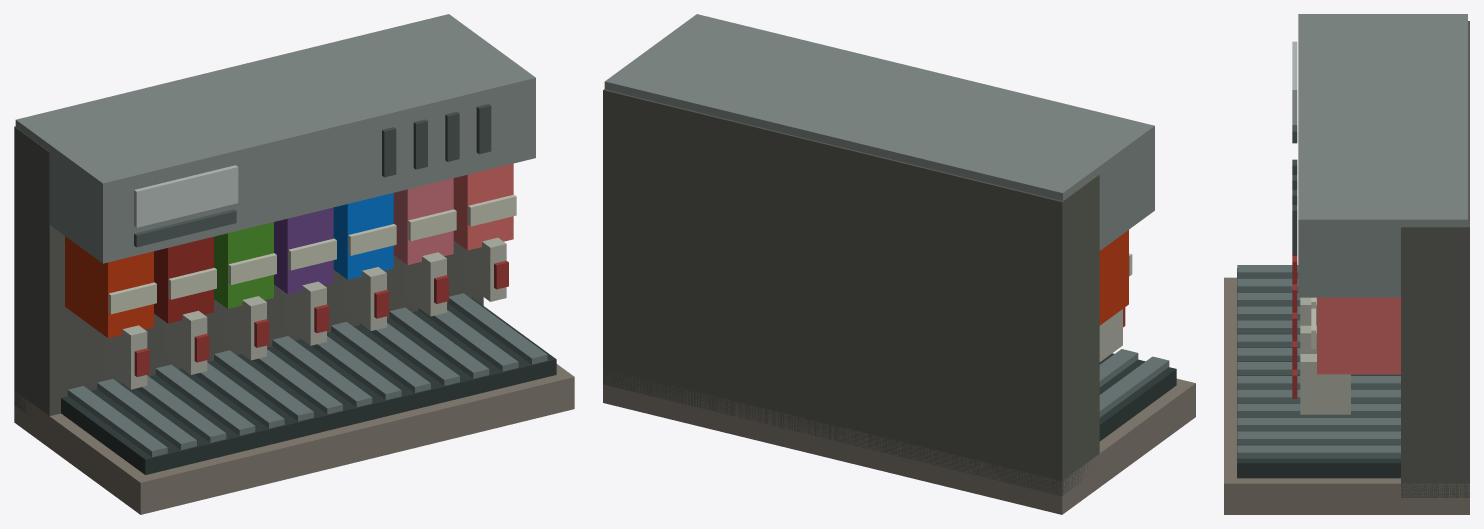
File: CMU3DCounterSodaDispenser.glb
3 renders of one model, left to right at view 1: azimuth 30°, elevation 25°; view 2: azimuth 150°, elevation 25°; view 3: azimuth 270°, elevation 25°, orthographic. The views are drawn at different scales.
Parts seen in each view (by area): view 1: soda upper housing, colored soda selector (×7), drip tray grille (×14), counter dispenser base, counter dispenser back, drip tray recess, dispenser tap (×7), pale soda selector band (×7), pale soda logo panel, soda upper grille (×4), small soda logo line; view 2: counter dispenser back, soda upper housing, counter dispenser base, drip tray grille (×2), drip tray recess, colored soda selector, dispenser tap; view 3: soda upper housing, counter dispenser back, drip tray grille (×14), counter dispenser base, colored soda selector, drip tray recess, dispenser tap (×3), pale soda logo panel, soda upper grille.
Part boxes in pixels (x1,y1,x2,y2): soda upper housing: [15, 14, 535, 263]; colored soda selector (×7): [65, 163, 513, 338]; drip tray grille (×14): [67, 293, 547, 457]; counter dispenser base: [14, 364, 574, 514]; counter dispenser back: [14, 126, 483, 419]; drip tray recess: [61, 297, 556, 474]; dispenser tap (×7): [105, 237, 506, 389]; pale soda selector band (×7): [108, 194, 516, 314]; pale soda logo panel: [134, 165, 238, 227]; soda upper grille (×4): [382, 104, 491, 177]; small soda logo line: [134, 209, 236, 247]; counter dispenser back: [603, 89, 1099, 495]; soda upper housing: [604, 14, 1154, 250]; counter dispenser base: [603, 370, 1195, 514]; drip tray grille (×2): [1099, 349, 1169, 417]; drip tray recess: [1099, 353, 1176, 441]; colored soda selector: [1099, 230, 1128, 325]; dispenser tap: [1099, 309, 1122, 361]; soda upper housing: [1298, 14, 1467, 297]; counter dispenser back: [1401, 21, 1469, 497]; drip tray grille (×14): [1237, 265, 1400, 458]; counter dispenser base: [1224, 277, 1469, 514]; colored soda selector: [1317, 297, 1400, 374]; drip tray recess: [1237, 268, 1400, 478]; dispenser tap (×3): [1300, 297, 1350, 414]; pale soda logo panel: [1292, 41, 1297, 124]; soda upper grille: [1292, 205, 1297, 254].
Size of the model in its own units: 0.906 by 0.605 by 0.457.
